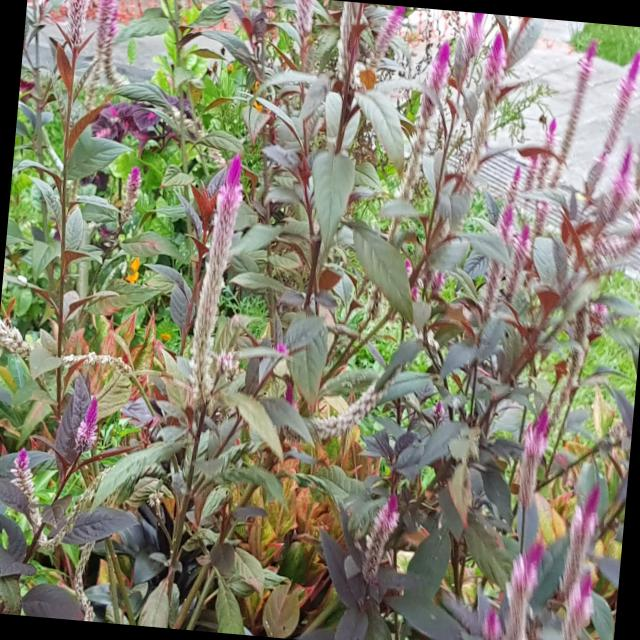Celosia-Argentea: (175, 157, 242, 424), (444, 22, 511, 226), (379, 39, 458, 212), (492, 379, 560, 532), (470, 190, 525, 368), (551, 30, 599, 217), (548, 453, 606, 593), (584, 42, 640, 185), (3, 440, 64, 561), (499, 508, 554, 640), (353, 490, 412, 598), (345, 2, 410, 100), (583, 147, 640, 249), (545, 556, 611, 640), (499, 131, 545, 249), (526, 100, 566, 226), (81, 0, 117, 99), (504, 212, 540, 296), (40, 0, 94, 52), (65, 392, 106, 459), (115, 156, 144, 245), (466, 589, 508, 640), (428, 397, 452, 418)
